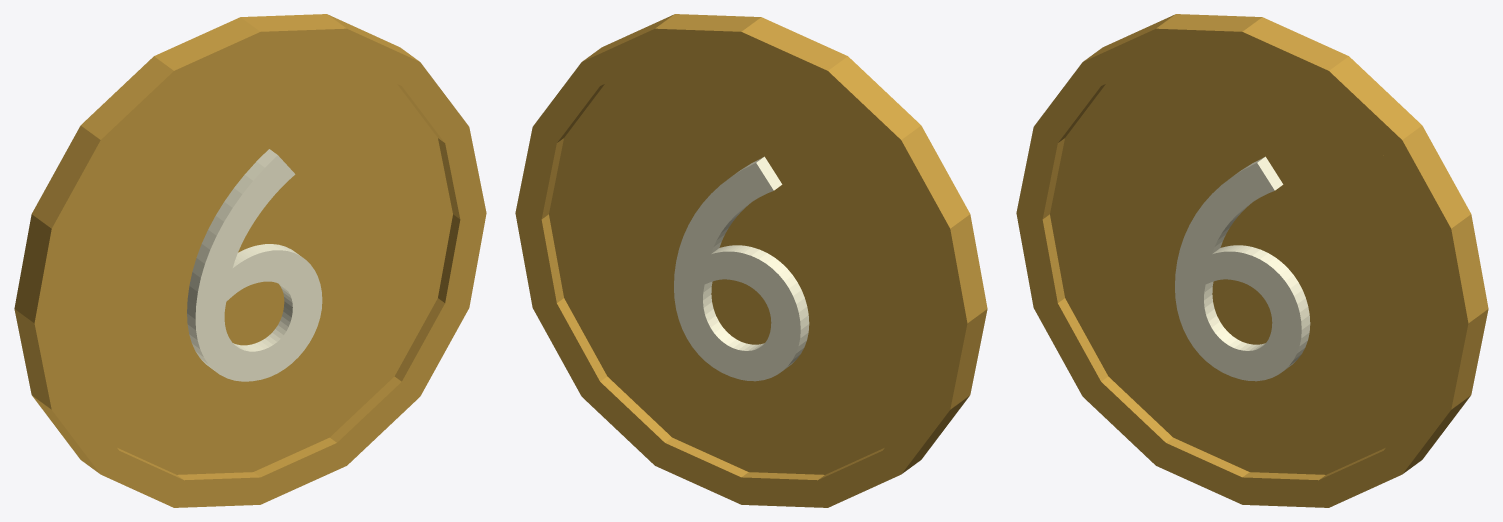
The model's file is Coin6.dae.
3 views of the same model, side by side, from view 1: azimuth 30°, elevation 25°; view 2: azimuth 150°, elevation 25°; view 3: azimuth 330°, elevation 25° (orthographic).
Parts seen in each view (by area): view 1: Circle_008, Text_008; view 2: Circle_008, Text_016; view 3: Circle_008, Text_008.
Boxes of the visible parts, box(x1,y1,x2,y2) form: Circle_008: box(14, 14, 486, 507); Text_008: box(187, 149, 322, 381); Circle_008: box(515, 14, 987, 507); Text_016: box(674, 156, 809, 381); Circle_008: box(1016, 14, 1488, 507); Text_008: box(1175, 156, 1310, 381).
Size of the model in its own units: 0.9666 by 0.0839 by 0.9666.
